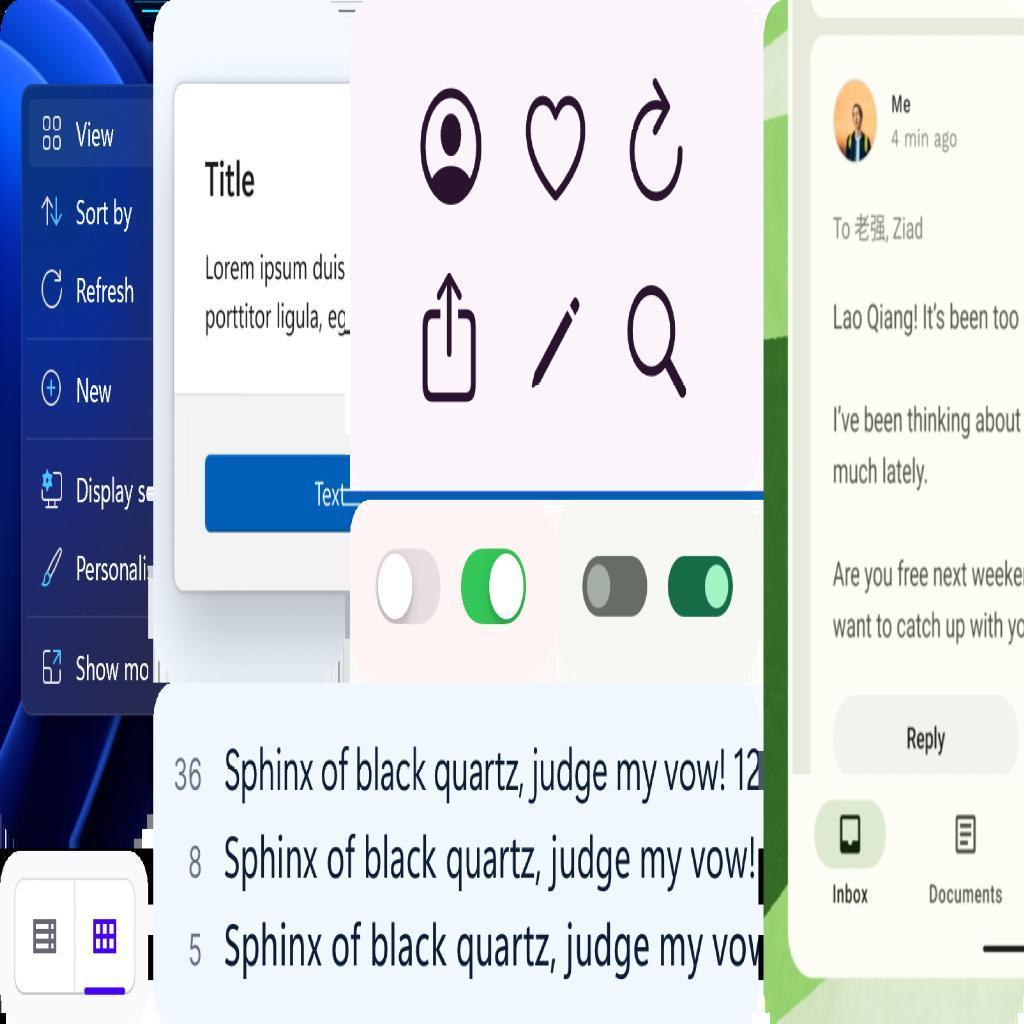button: (834, 696, 1022, 773)
icon: (408, 272, 494, 424), (521, 82, 595, 215), (625, 75, 694, 212), (624, 277, 694, 412), (418, 81, 489, 212), (525, 272, 588, 403), (814, 801, 890, 869), (944, 810, 988, 865), (35, 642, 74, 700), (27, 910, 66, 966), (35, 468, 71, 524), (37, 537, 71, 596), (90, 911, 124, 965), (40, 265, 73, 313), (37, 362, 66, 416), (37, 194, 71, 236), (41, 114, 70, 159)
switch: (374, 548, 446, 625), (460, 553, 526, 624), (580, 557, 651, 617), (671, 555, 735, 619)
